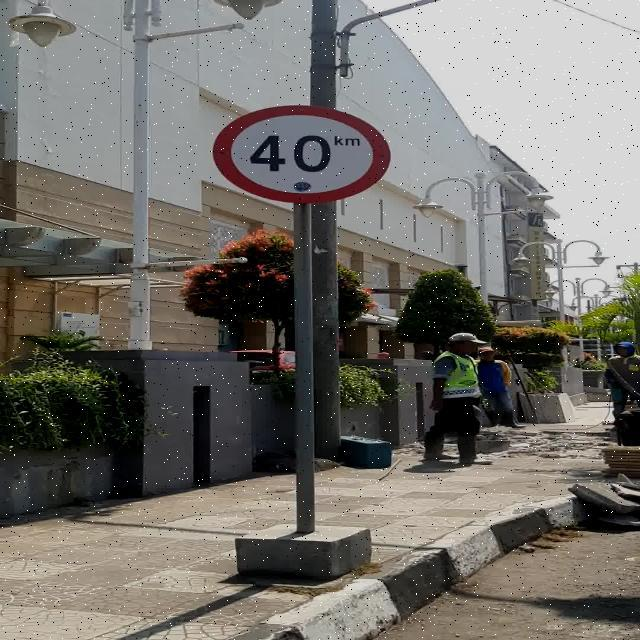Kecepatan Maks. 40 km: (210, 104, 392, 204)
